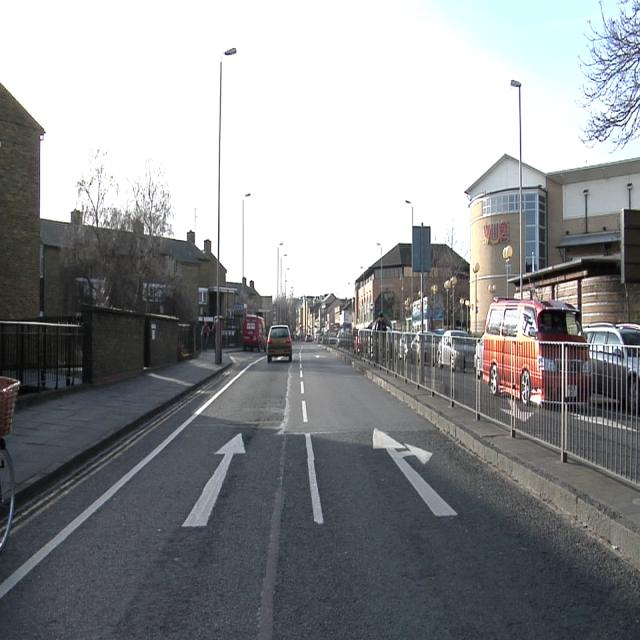Building: (1, 86, 215, 322), (527, 151, 638, 324), (467, 155, 535, 331), (354, 227, 468, 330), (300, 295, 352, 343)
Car: (477, 302, 562, 401), (584, 326, 638, 409), (438, 331, 475, 370), (267, 325, 291, 362)
Road: (1, 344, 613, 624)
Tree: (578, 1, 638, 152), (75, 145, 173, 235)
Truck_Bus: (244, 316, 264, 351)
